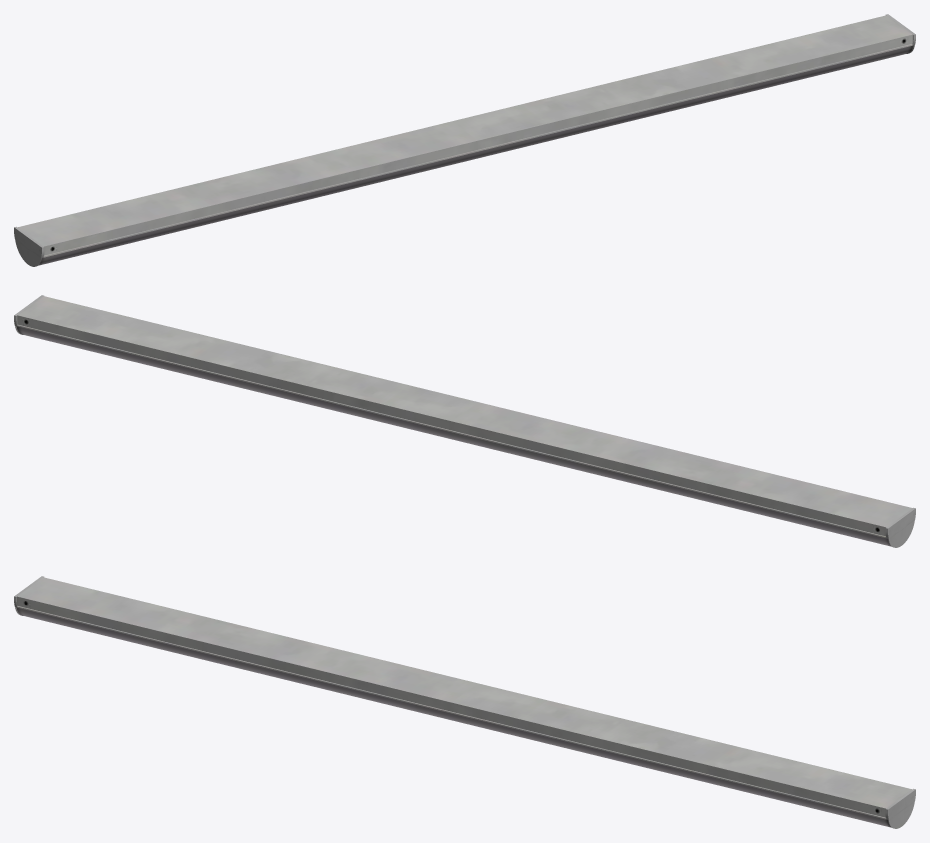
File: mounted_fluorescent_lights_1k.gltf
The picture shows the model from 3 angles, top to bottom: view 1: azimuth 30°, elevation 25°; view 2: azimuth 150°, elevation 25°; view 3: azimuth 330°, elevation 25°; orthographic projection.
Visible parts, largest first — view 1: mounted_fluorescent_lights_g; view 2: mounted_fluorescent_lights_g; view 3: mounted_fluorescent_lights_g.
Boxes of the visible parts, <box> form: mounted_fluorescent_lights_g: <box>14,14,915,266</box>; mounted_fluorescent_lights_g: <box>14,295,915,547</box>; mounted_fluorescent_lights_g: <box>14,576,915,828</box>.
Bounding box in the file's own units: 0.9055 × 0.027 × 0.0502.
Materials: 2 (2 with a texture image).
